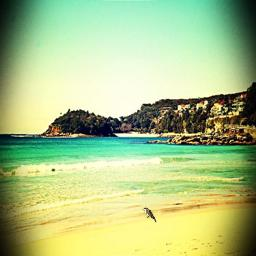Cuckoo: (143, 207, 158, 223)
